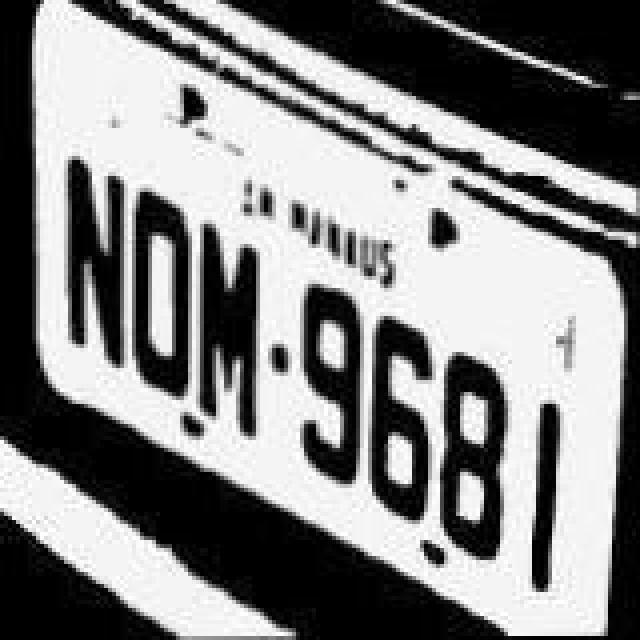1: (516, 378, 584, 606)
6: (356, 310, 440, 542)
8: (438, 348, 518, 568)
9: (292, 274, 376, 498)
M: (190, 218, 270, 450)
N: (52, 148, 136, 372)
O: (128, 186, 204, 406)
